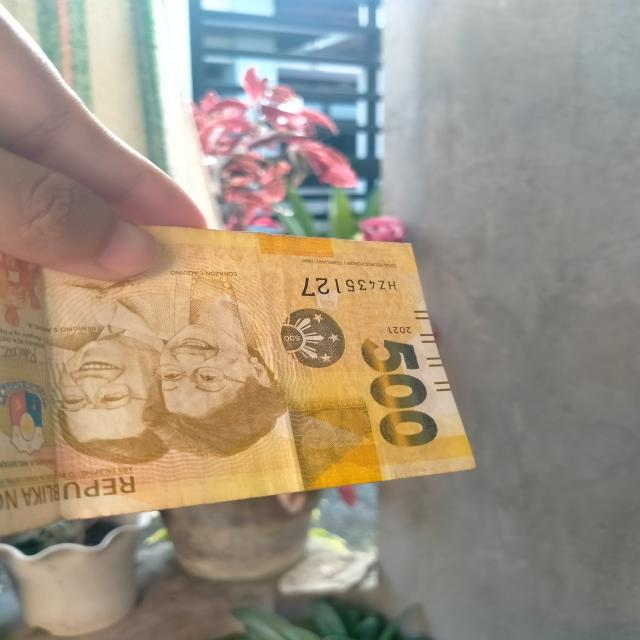concealed_value: (292, 390, 386, 484)
optically_variable_device: (270, 303, 352, 374)
serial_number: (293, 270, 405, 304)
value: (358, 335, 448, 449)
